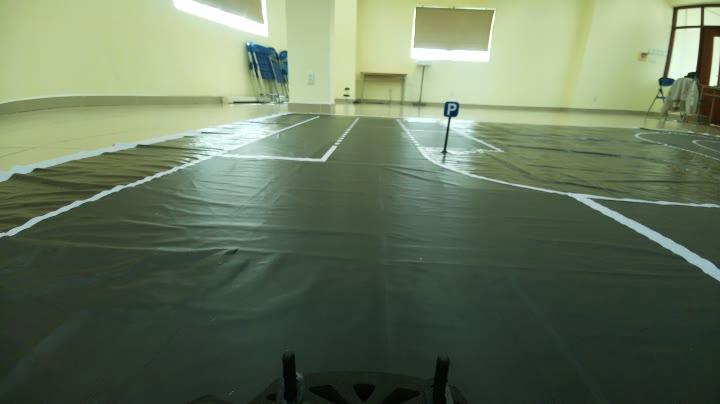parking: (432, 95, 466, 121)
